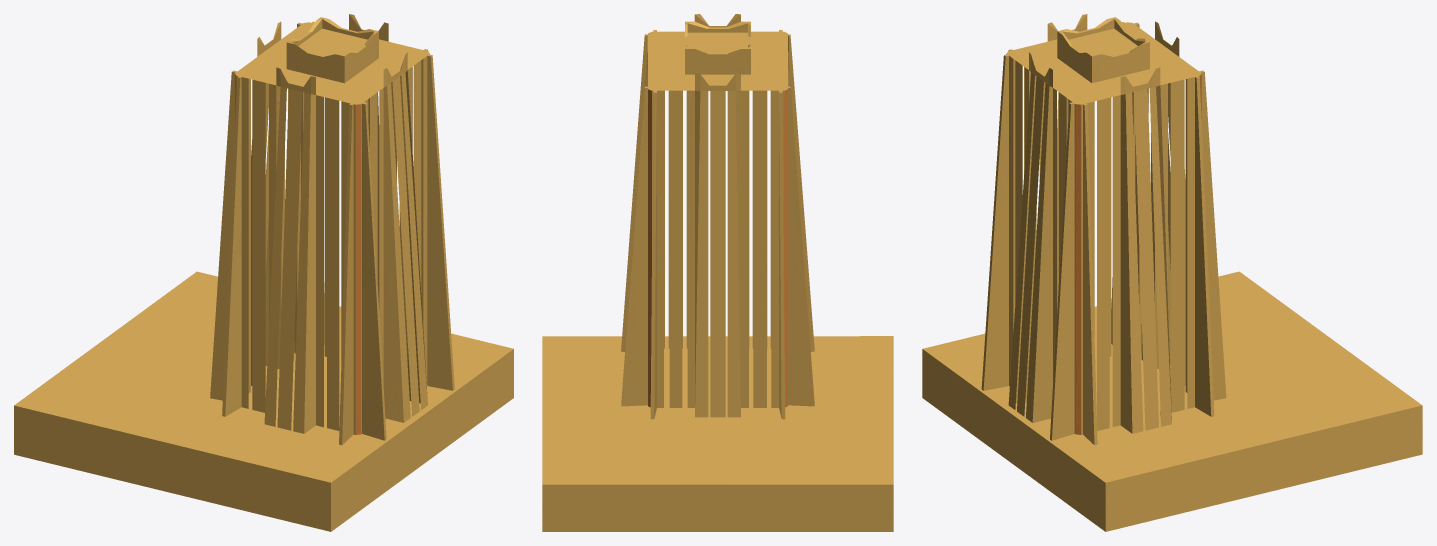
Rendered from tour_bceao_reel.glb.
3 views of the same model, side by side, from view 1: azimuth 30°, elevation 25°; view 2: azimuth 150°, elevation 25°; view 3: azimuth 270°, elevation 25° (orthographic). The views are drawn at different scales.
Visible parts, largest first — view 1: Tour_BCEAO_Reel; view 2: Tour_BCEAO_Reel; view 3: Tour_BCEAO_Reel.
Part boxes in pixels (x1,y1,x2,y2): Tour_BCEAO_Reel: [14, 14, 513, 531]; Tour_BCEAO_Reel: [542, 14, 893, 531]; Tour_BCEAO_Reel: [922, 14, 1422, 531].
Bounding box in the file's own units: 0.35 × 0.3138 × 0.35.
1 material, 1 textured.
